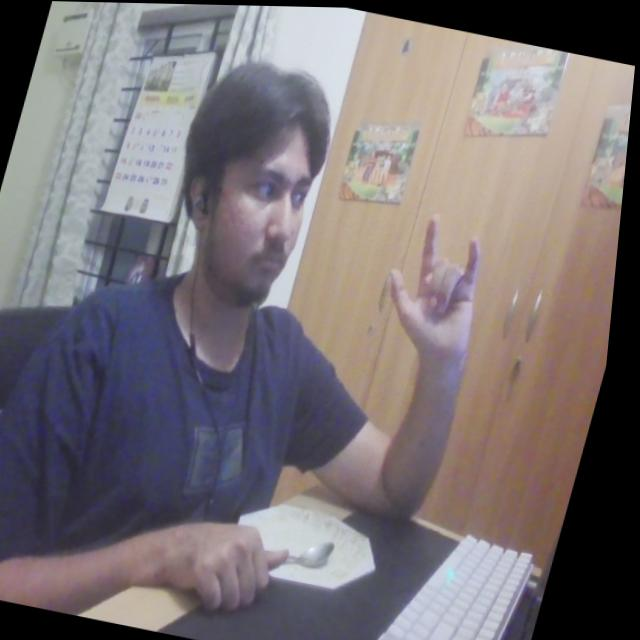iloveyou: (375, 203, 514, 364)
